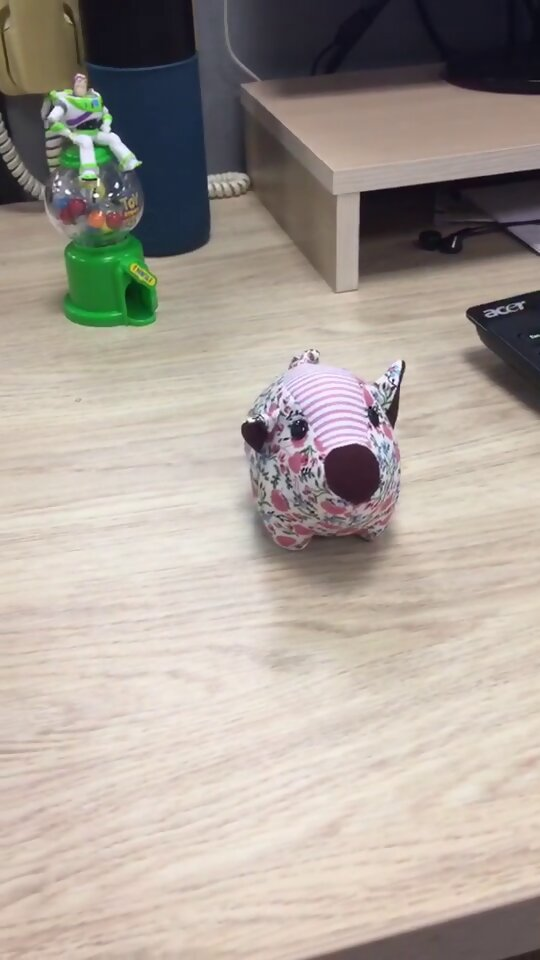pig: (236, 345, 407, 551)
